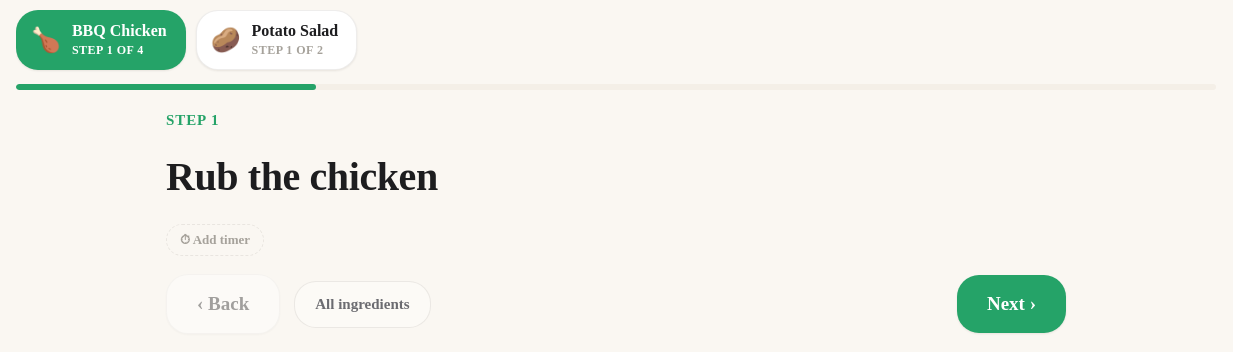
Test: CookMode — cooking a plate › switching tabs returns each dish to exactly where it was left
This screenshot has width=1233, height=352.
Expected: the text "Rub the chicken" is shown, [166,151,438,202]
Note: BBQ chicken → step 2.
Click the button "Next ›": click(1011, 304) [957,275,1066,333]
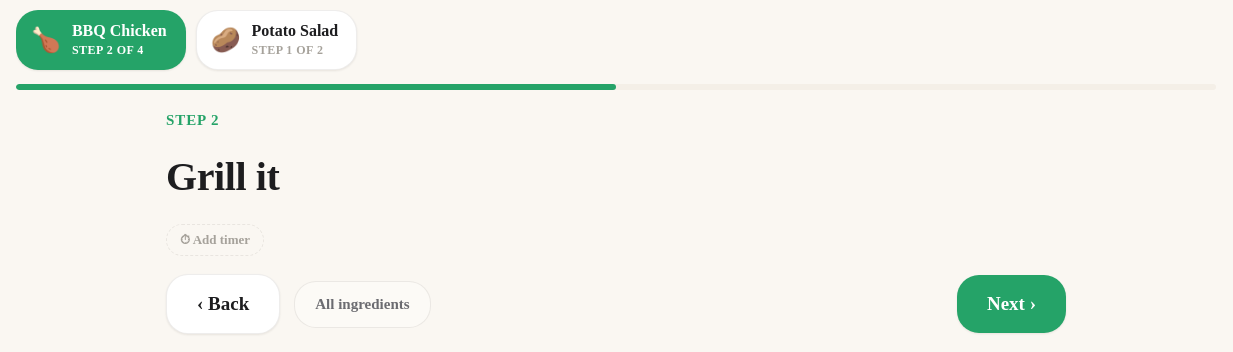
Expected: the text "Grill it" is shown, [166,151,280,202]
Note: Switch to the potato salad — it starts at its own step 1.
Click the tab "🥔 Potato Salad Step 1 of 2": click(276, 40) [196,10,357,70]
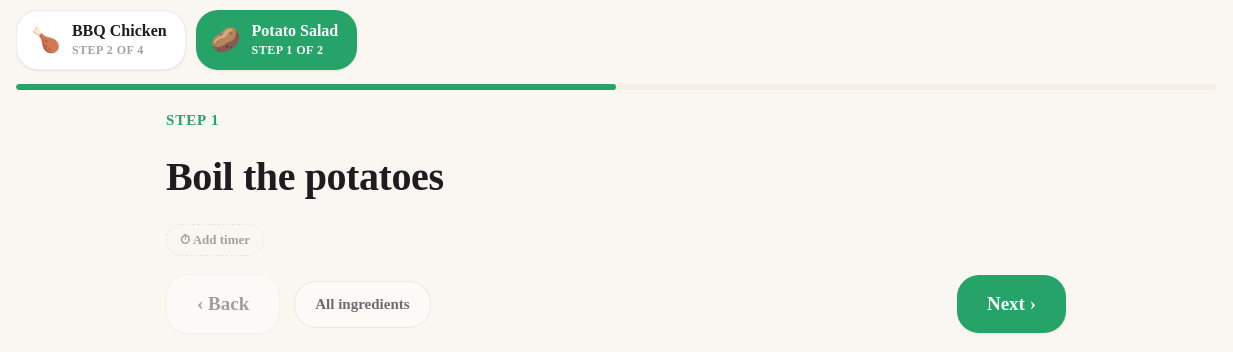
Expected: the text "Boil the potatoes" is shown, [166,151,444,202]
Expected: the text "Grill it" is gone
Note: Advance the salad to its step 2 (its last).
Click the button "Next ›": click(1011, 304) [957,275,1066,333]
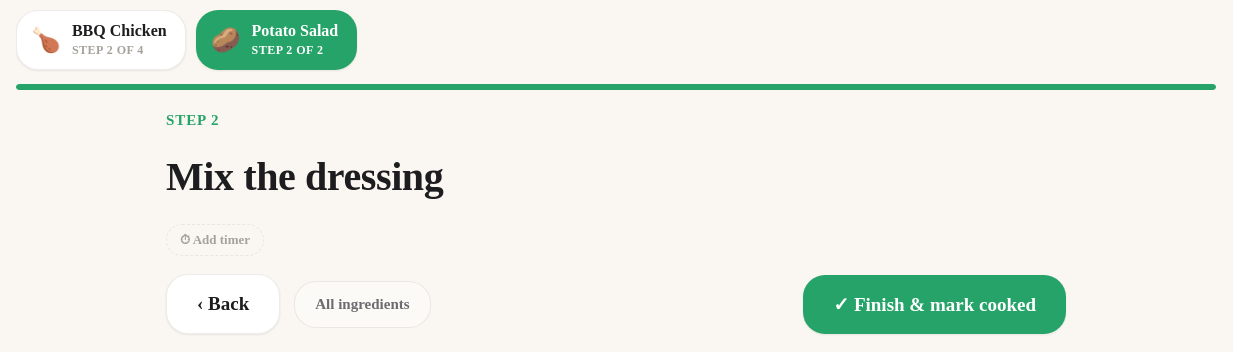
Expected: the text "Mix the dressing" is shown, [166,151,443,202]
Note: Back to the chicken — still on step 2, where we left it.
Click the tab "🍗 BBQ Chicken Step 2 of 4": click(101, 40) [16,10,186,70]
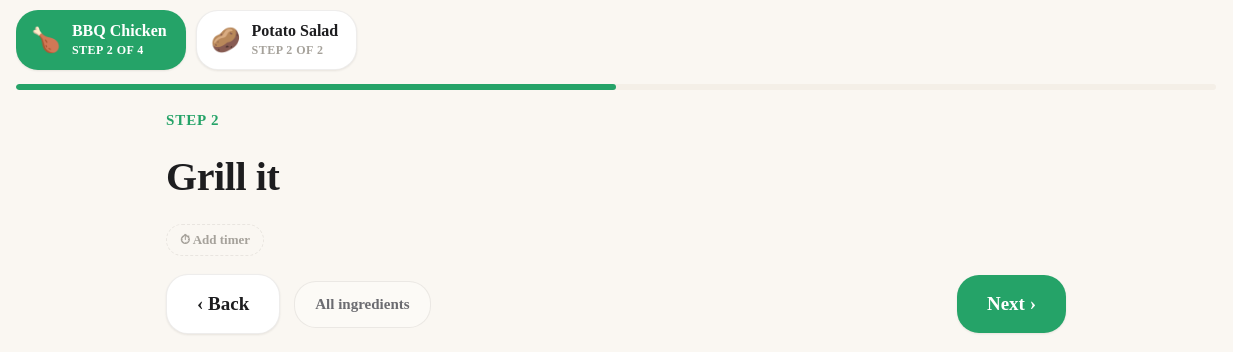
Expected: the tab "🍗 BBQ Chicken Step 2 of 4" is shown, [16,10,186,70]
Expected: the tab "🥔 Potato Salad Step 2 of 2" is shown
Expected: the text "Grill it" is shown, [166,151,280,202]
Note: And back to the salad — still on its step 2.
Click the tab "🥔 Potato Salad Step 2 of 2": click(276, 40) [196,10,357,70]
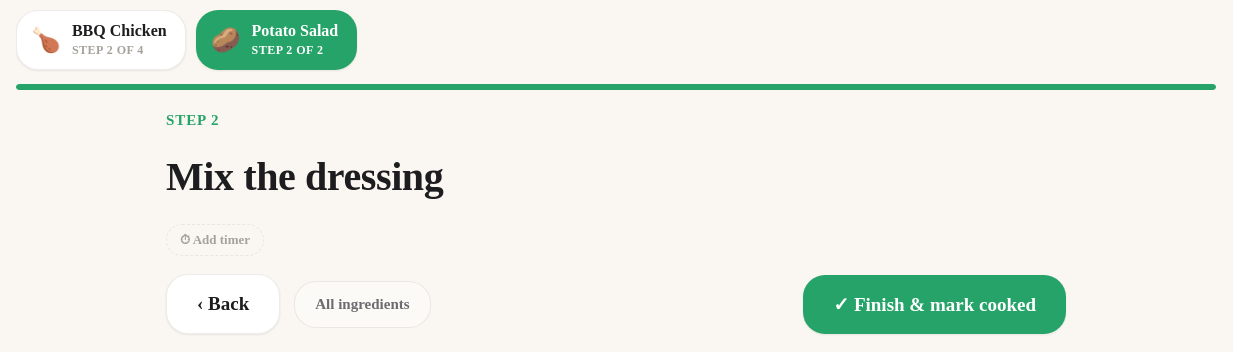
Expected: the text "Mix the dressing" is shown, [166,151,443,202]
